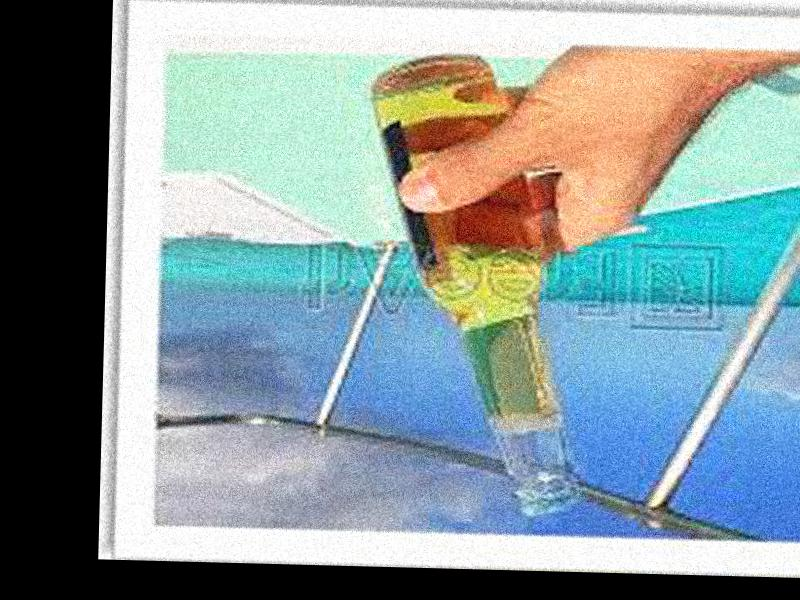Beer: (357, 59, 604, 513)
